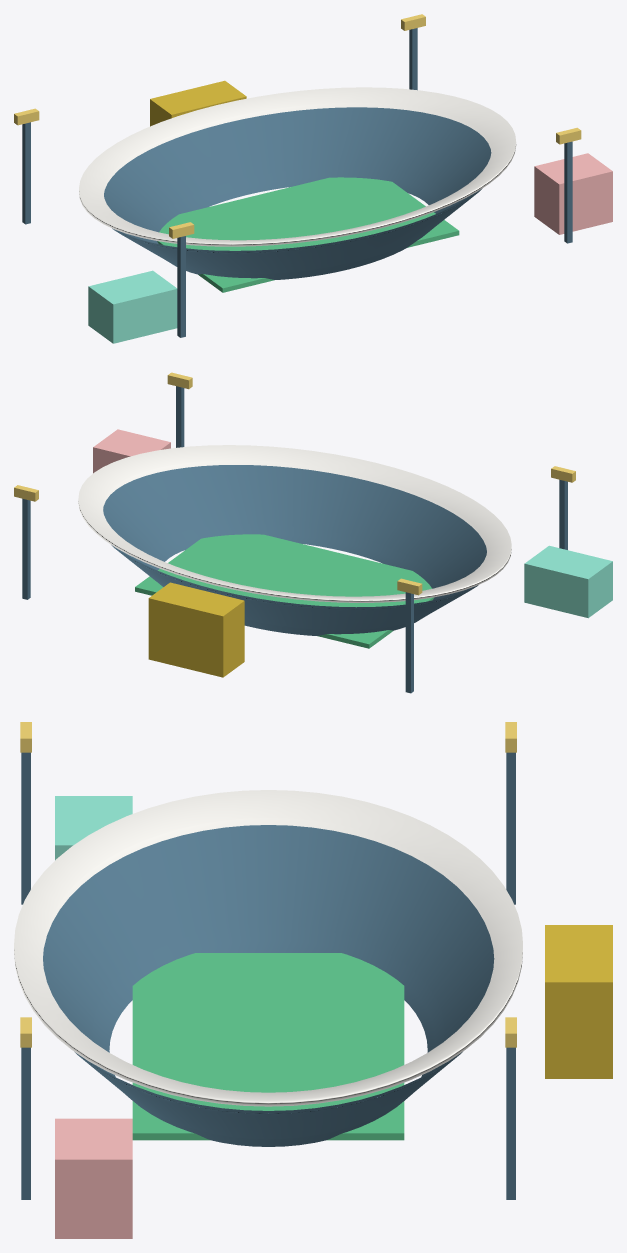
Rendered from stadium.glb.
3 views of the same model, one above another, from view 1: azimuth 30°, elevation 25°; view 2: azimuth 150°, elevation 25°; view 3: azimuth 270°, elevation 25° (orthographic). The views are drawn at different scales.
Size of the model in its own units: 4.65 by 0.98 by 3.09.
